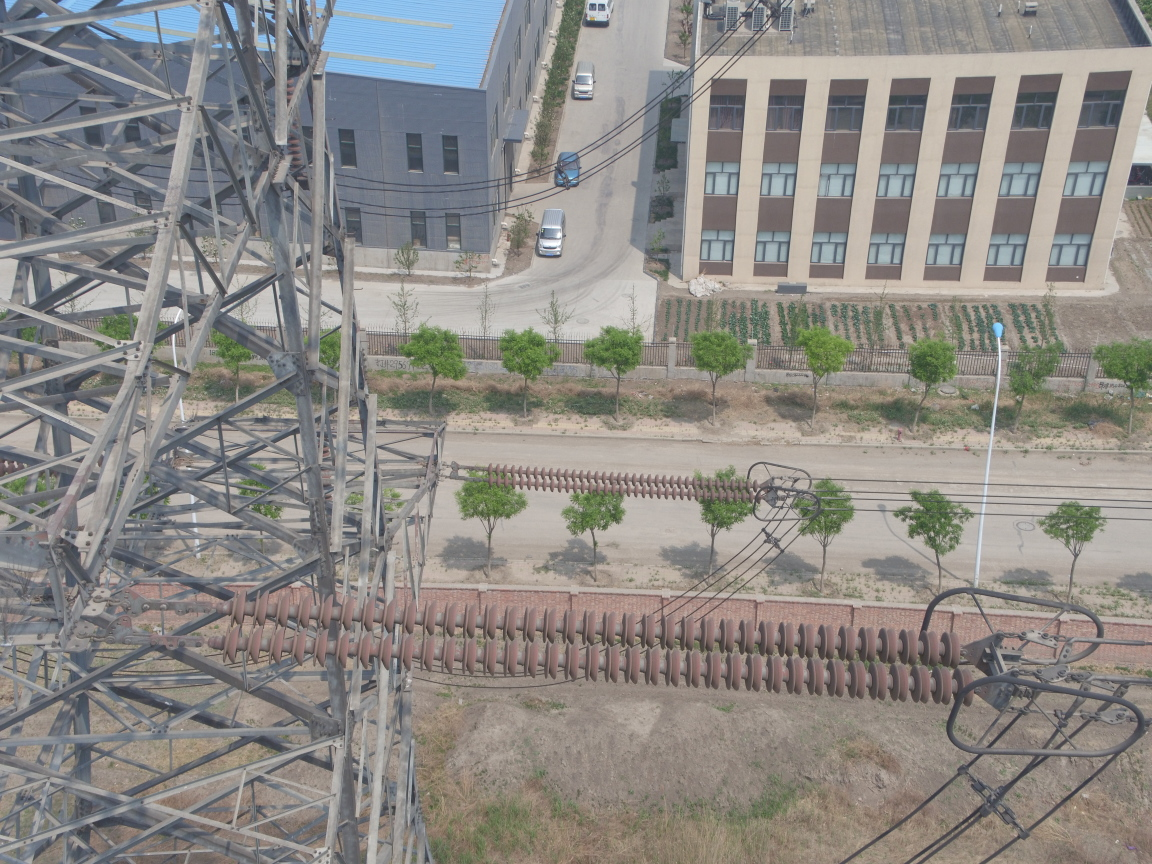insulator: (133, 584, 994, 710), (463, 459, 767, 510)
